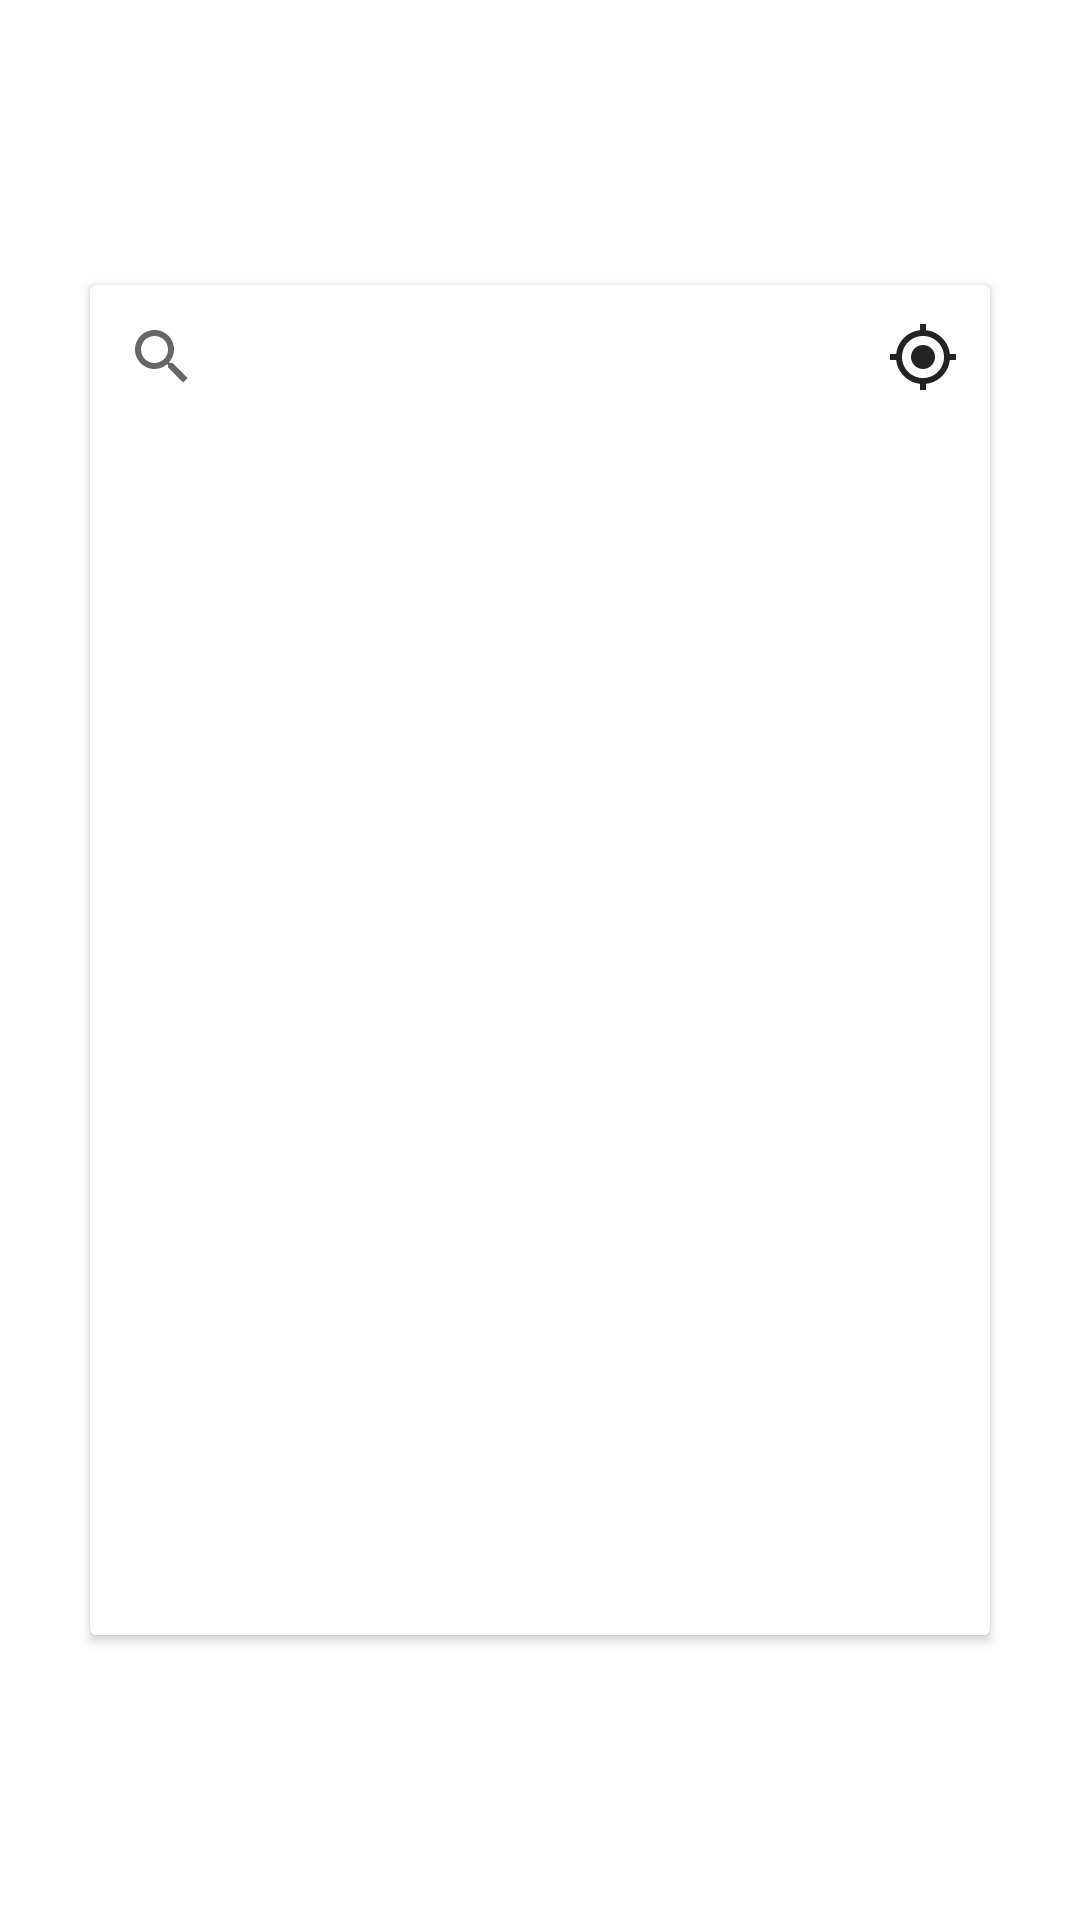

Icon bounding boxes for this 1080*1920 phone screenshot, format (x1, y1, x2, y2):
getlocation: (890, 324, 956, 390)
